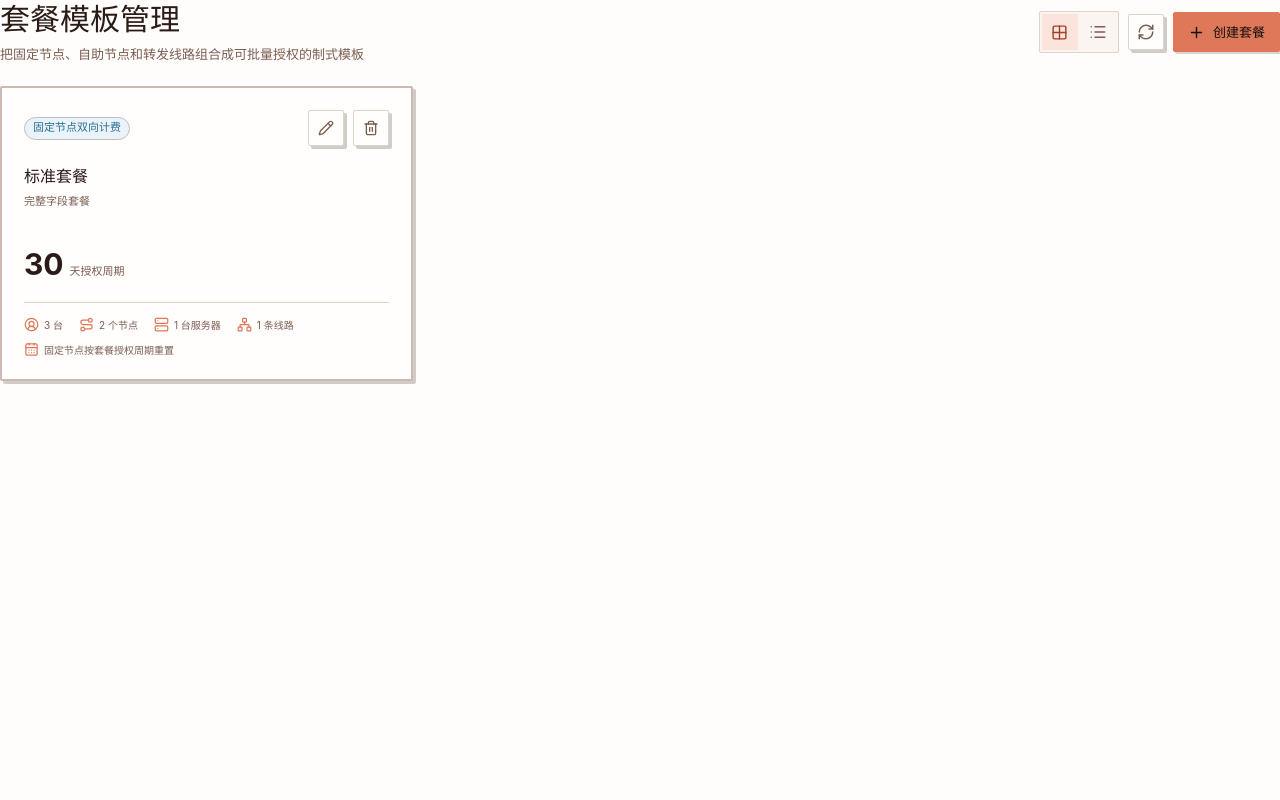
Test: package management › treats a legacy package without a reset period as monthly
Expected: the text "固定节点按套餐授权周期重置" is shown, x1=24 y1=342 x2=174 y2=357
Click the button named "编辑 标准套餐" at (326, 128), box x1=308 y1=110 x2=344 y2=146
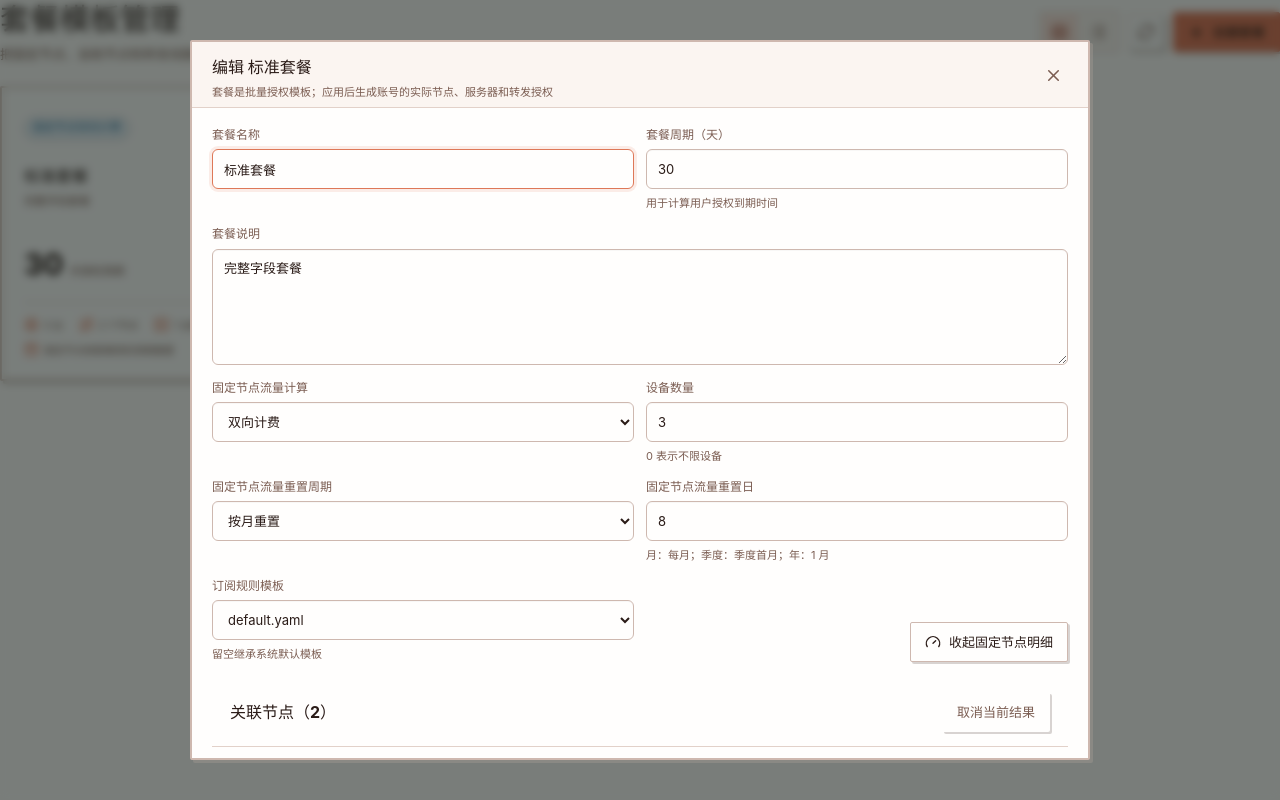
Expected: the dropdown labelled "固定节点流量重置周期" shows "按月重置", x1=212 y1=501 x2=634 y2=541
